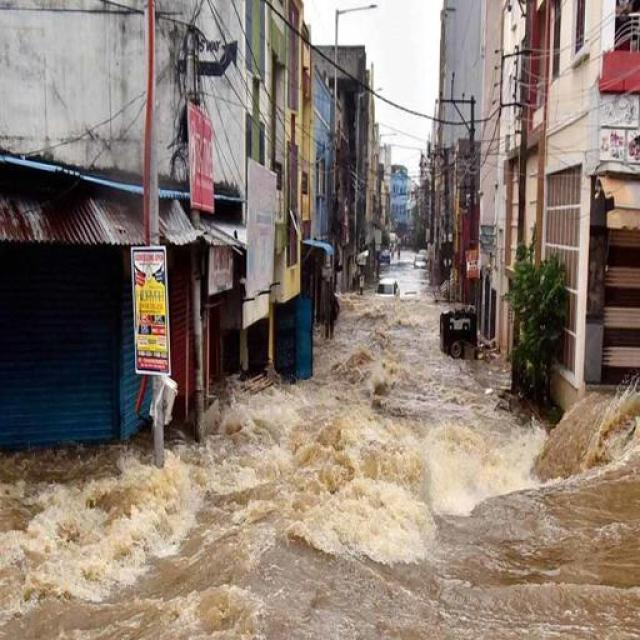puddle: (13, 483, 637, 640), (345, 300, 479, 636), (267, 388, 559, 541)
